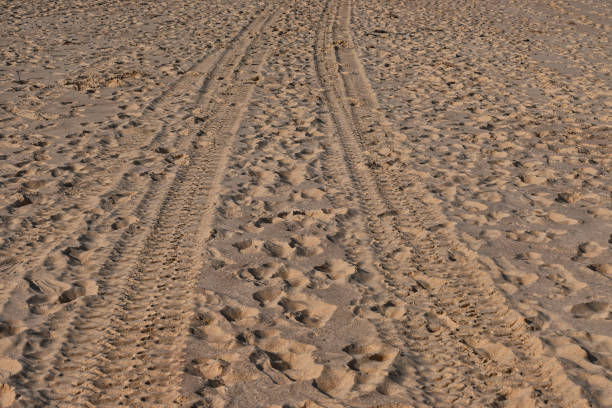vehicle_track: (315, 0, 584, 405), (17, 8, 276, 405), (24, 8, 269, 274)
